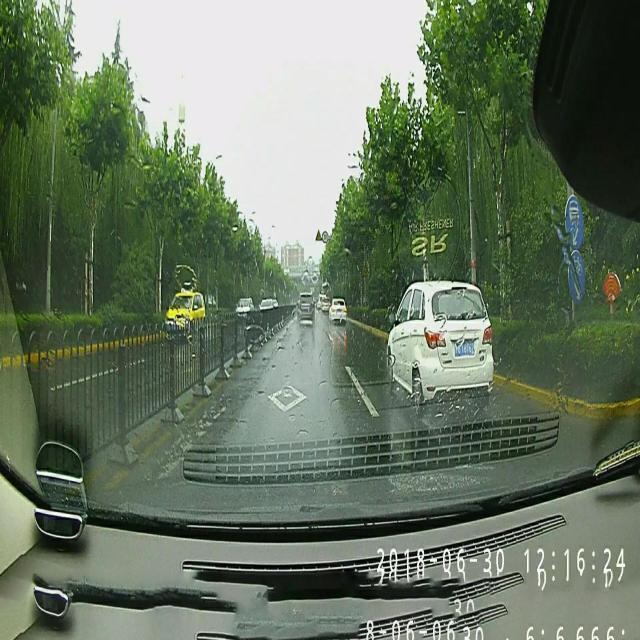car: (384, 281, 492, 413), (164, 285, 208, 338), (296, 294, 314, 322), (330, 298, 348, 325), (320, 296, 330, 313)
